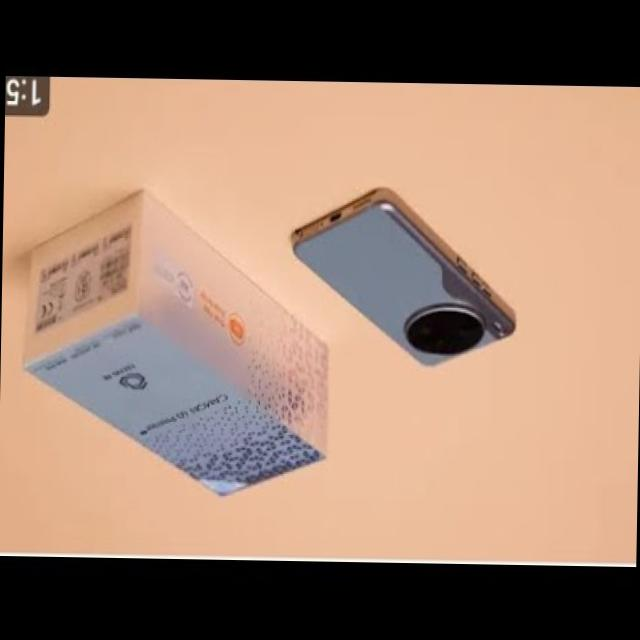mobile_phone: (250, 138, 547, 390)
plastic_box: (9, 147, 338, 524)
